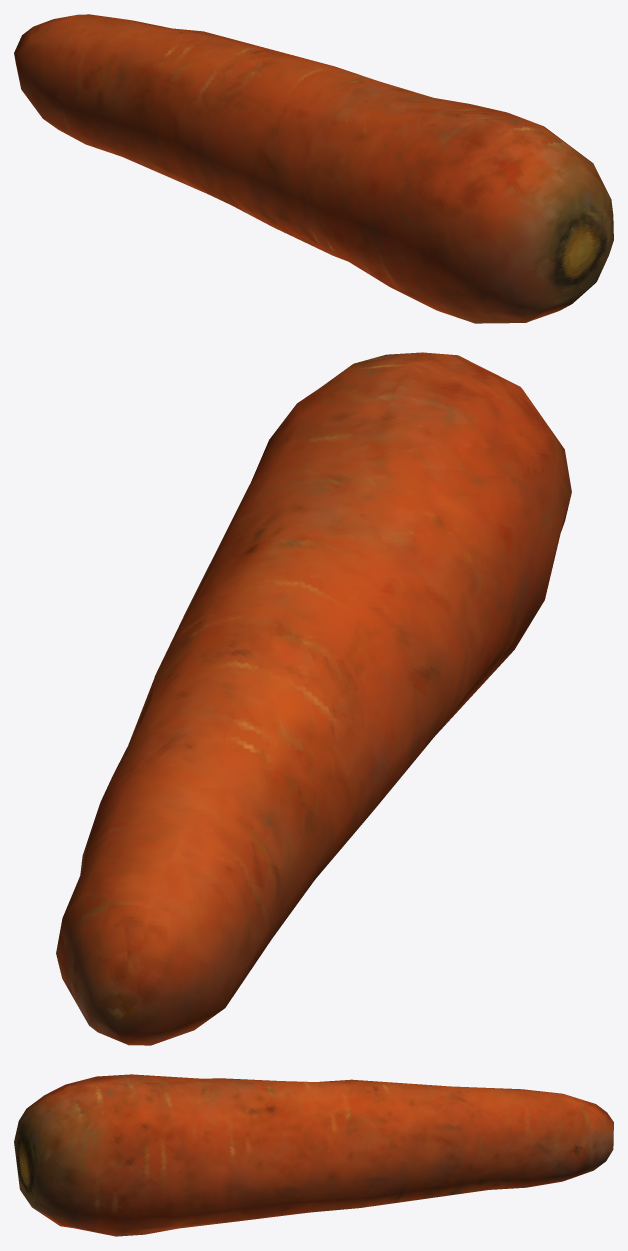
Rendered from ref_carrot.glb.
The picture shows the model from 3 angles, top to bottom: view 1: azimuth 30°, elevation 25°; view 2: azimuth 150°, elevation 25°; view 3: azimuth 270°, elevation 25°; orthographic projection. The views are drawn at different scales.
Parts seen in each view (by area): view 1: ref_carrot; view 2: ref_carrot; view 3: ref_carrot.
Boxes of the visible parts, x1,y1,x2,y2 form: ref_carrot: (14, 14, 613, 323); ref_carrot: (56, 352, 571, 1045); ref_carrot: (14, 1074, 613, 1236).
Bounding box in the file's own units: 0.3931 × 0.273 × 1.
Materials: 1 (1 with a texture image).
